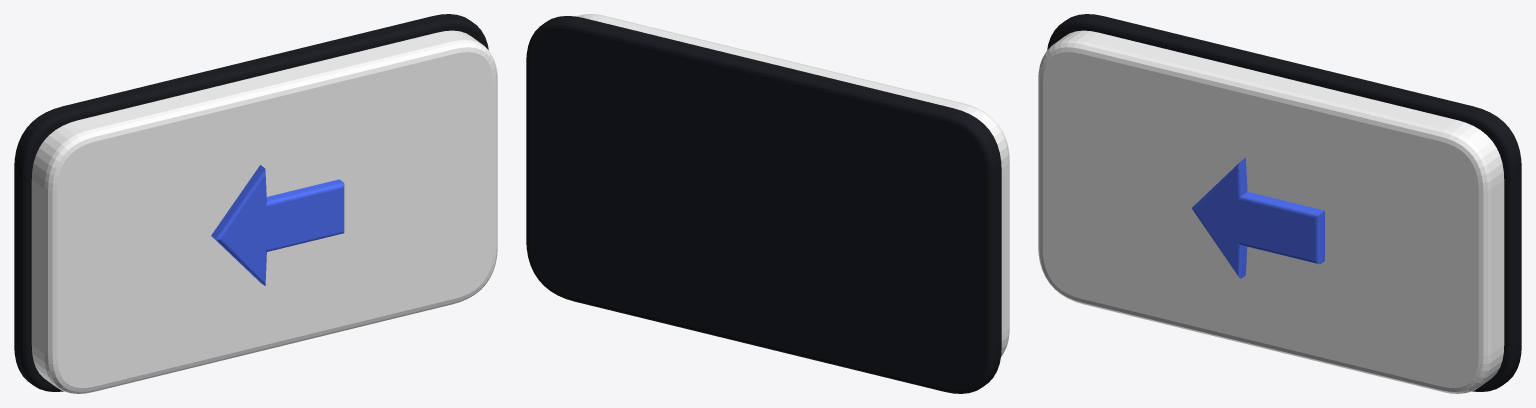
Rendered from key-undo.glb.
3 renders of one model, left to right at view 1: azimuth 30°, elevation 25°; view 2: azimuth 150°, elevation 25°; view 3: azimuth 330°, elevation 25°, orthographic.
Parts seen in each view (by area): view 1: key-undo-cap, key-undo-socket, key-undo-icon; view 2: key-undo-socket, key-undo-cap; view 3: key-undo-cap, key-undo-socket, key-undo-icon.
Boxes of the visible parts, x1,y1,x2,y2 form: key-undo-cap: (31,30,497,393); key-undo-socket: (14,14,488,391); key-undo-icon: (211,165,344,285); key-undo-socket: (526,16,1001,393); key-undo-cap: (576,14,1009,356); key-undo-cap: (1038,30,1504,393); key-undo-socket: (1047,14,1521,391); key-undo-icon: (1192,157,1324,278).
Size of the model in its own units: 1.16 by 0.66 by 0.152.
